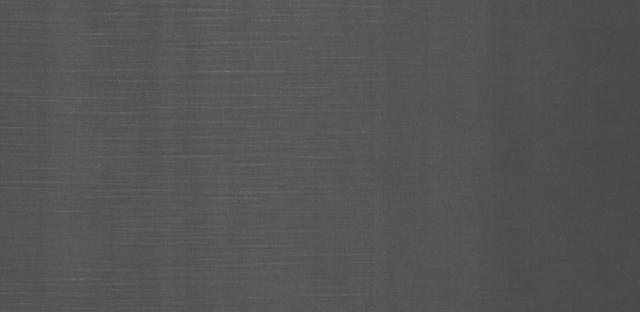waist_folding: (23, 23, 445, 284)
